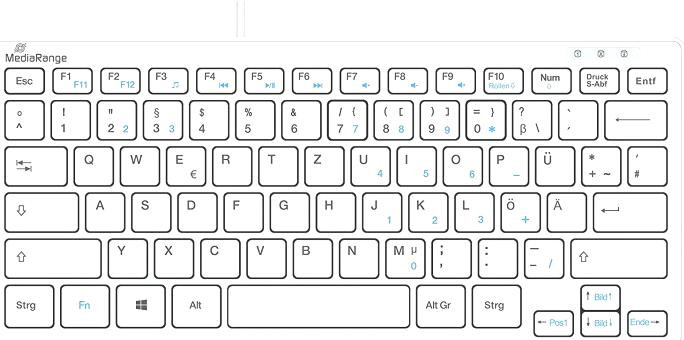0: (463, 97, 506, 139)
1: (48, 97, 89, 138)
2: (93, 97, 136, 139)
3: (139, 97, 182, 139)
4: (186, 96, 227, 138)
5: (232, 97, 273, 138)
6: (278, 97, 319, 138)
7: (325, 97, 367, 139)
8: (371, 97, 413, 139)
9: (417, 97, 459, 140)
a: (82, 189, 123, 230)
accent: (555, 97, 596, 138)
ae: (543, 189, 585, 231)
alt-left: (168, 281, 221, 327)
altgr-right: (413, 281, 466, 327)
b: (289, 235, 331, 276)
c: (197, 235, 239, 277)
caret: (1, 97, 42, 138)
comma: (428, 235, 470, 277)
d: (174, 189, 215, 231)
del: (602, 97, 667, 138)
e: (162, 143, 205, 185)
enter: (590, 189, 667, 231)
f: (220, 189, 261, 230)
g: (266, 189, 308, 230)
h: (312, 189, 354, 231)
hash: (625, 143, 667, 185)
i: (394, 143, 435, 185)
j: (359, 189, 400, 231)
k: (405, 189, 447, 231)
keyboard: (1, 37, 683, 340)
l: (452, 189, 493, 231)
m: (383, 235, 425, 277)
minus: (520, 235, 563, 277)
n: (336, 235, 377, 276)
o: (439, 143, 481, 185)
oe: (499, 190, 541, 232)
p: (485, 142, 528, 185)
plus: (578, 143, 620, 185)
point: (475, 235, 516, 276)
q: (70, 143, 112, 184)
r: (209, 143, 250, 185)
s: (128, 189, 169, 230)
shift-left: (3, 234, 101, 277)
shift-lock: (1, 189, 78, 231)
shift-right: (568, 235, 667, 278)
space: (226, 280, 410, 328)
ss: (508, 97, 550, 139)
strg-left: (1, 281, 54, 327)
strg-right: (468, 281, 521, 328)
t: (255, 143, 296, 184)
tab: (1, 143, 66, 185)
u: (347, 143, 389, 185)
ue: (532, 143, 573, 185)
v: (243, 235, 285, 276)
w: (117, 142, 158, 184)
x: (151, 235, 193, 276)
y: (105, 235, 147, 276)
z: (301, 143, 343, 185)
